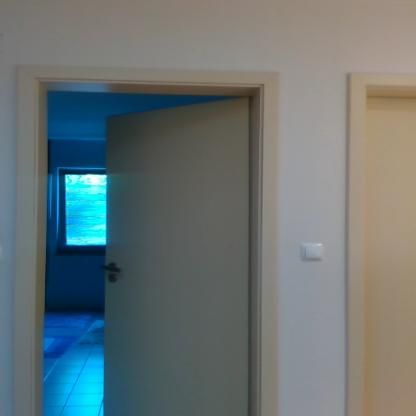semi: (6, 51, 304, 415)
